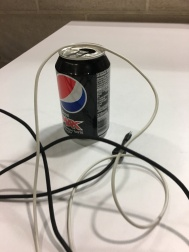can_black: (41, 42, 117, 148)
